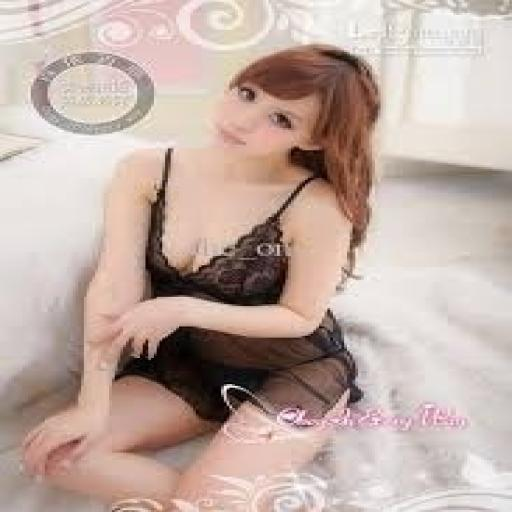sleeping: (17, 43, 383, 510)
